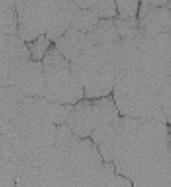retracao: (10, 4, 171, 187)
